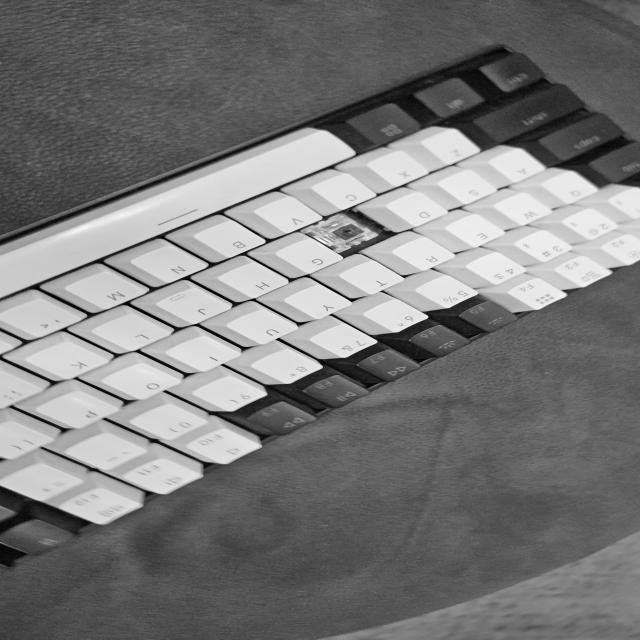C: (319, 219, 376, 247)
